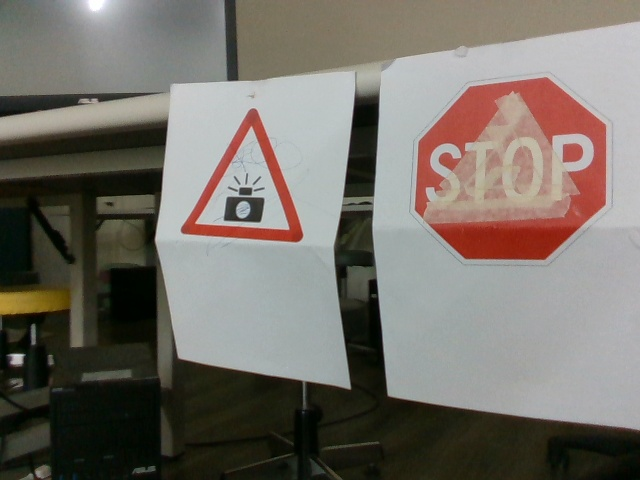camera: (182, 108, 299, 244)
stop: (417, 79, 614, 266)
